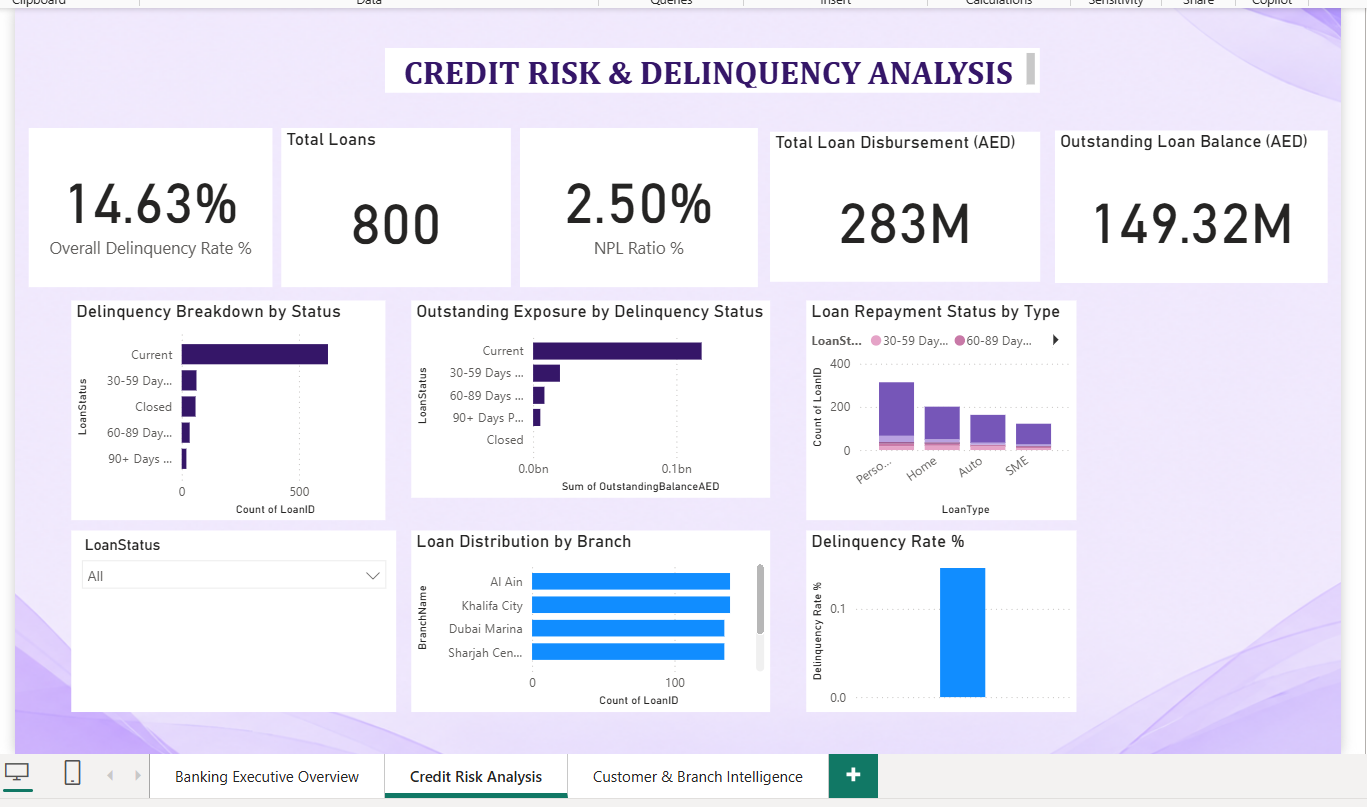

What the dashboard file says about the page in this screenshot:
{"tool":"powerbi","page":{"name":"Credit Risk Analysis","canvas":[1280,720],"ordinal":1},"visuals":[{"type":"card","title":"Total Loans","fields":{"Values":["Count(Loans.LoanID)"]},"box":[257,115.8,222,153.2],"z":0},{"type":"card","title":"Total Loan Disbursement (AED)","fields":{"Values":["Sum(Loans.OriginalPrincipalAED)"]},"box":[728.7,119.4,260.6,144.8],"z":1000},{"type":"card","title":"Outstanding Loan Balance (AED)","fields":{"Values":["Sum(Loans.OutstandingBalanceAED)"]},"box":[1003.8,118.2,263,147.2],"z":2000},{"type":"clusteredBarChart","title":"Delinquency Breakdown by Status","fields":{"Y":["CountNonNull(Loans.LoanID)"],"Category":["Loans.LoanStatus"]},"box":[54.3,282.3,302.8,212.3],"z":3000},{"type":"clusteredBarChart","title":"Outstanding Exposure by Delinquency Status","fields":{"Y":["Sum(Loans.OutstandingBalanceAED)"],"Category":["Loans.LoanStatus"]},"box":[382.4,282.3,346.2,190.6],"z":4000},{"type":"columnChart","title":"Loan Repayment Status by Type","fields":{"Category":["Loans.LoanType"],"Y":["CountNonNull(Loans.LoanID)"],"Series":["Loans.LoanStatus"]},"box":[763.7,282.3,260.6,212.3],"z":5000},{"type":"textbox","box":[357.1,38.6,632.2,43.4],"z":6000},{"type":"card","fields":{"Values":["Branches.Overall Delinquency Rate %"]},"box":[13.3,115.8,235.3,153.2],"z":7000},{"type":"card","fields":{"Values":["Branches.NPL Ratio %"]},"box":[487.4,115.8,229.2,153.2],"z":8000},{"type":"slicer","fields":{"Values":["Loans.LoanStatus"]},"box":[54.3,504.3,313.7,174.9],"z":9000},{"type":"clusteredBarChart","title":"Loan Distribution by Branch","fields":{"Category":["Branches.BranchName"],"Y":["CountNonNull(Loans.LoanID)"]},"box":[382,504,346,175],"z":10000},{"type":"clusteredColumnChart","fields":{"Y":["Branches.Delinquency Rate %"]},"box":[764,504,261,175],"z":11000}]}

Visuals, with their boxes on the page's 1280x720 design canvas (x1, y1, x2, y2). These are canvas units, not pixel positions in the 1367x807 screenshot, which may show the page scaled, cropped or inside an application window:
"Total Loans" card: 257:116:479:269
"Total Loan Disbursement (AED)" card: 729:119:989:264
"Outstanding Loan Balance (AED)" card: 1004:118:1267:265
"Delinquency Breakdown by Status" clusteredBarChart: 54:282:357:495
"Outstanding Exposure by Delinquency Status" clusteredBarChart: 382:282:729:473
"Loan Repayment Status by Type" columnChart: 764:282:1024:495
textbox: 357:39:989:82
card - Branches.Overall Delinquency Rate %: 13:116:249:269
card - Branches.NPL Ratio %: 487:116:717:269
slicer - Loans.LoanStatus: 54:504:368:679
"Loan Distribution by Branch" clusteredBarChart: 382:504:728:679
clusteredColumnChart - Branches.Delinquency Rate %: 764:504:1025:679
